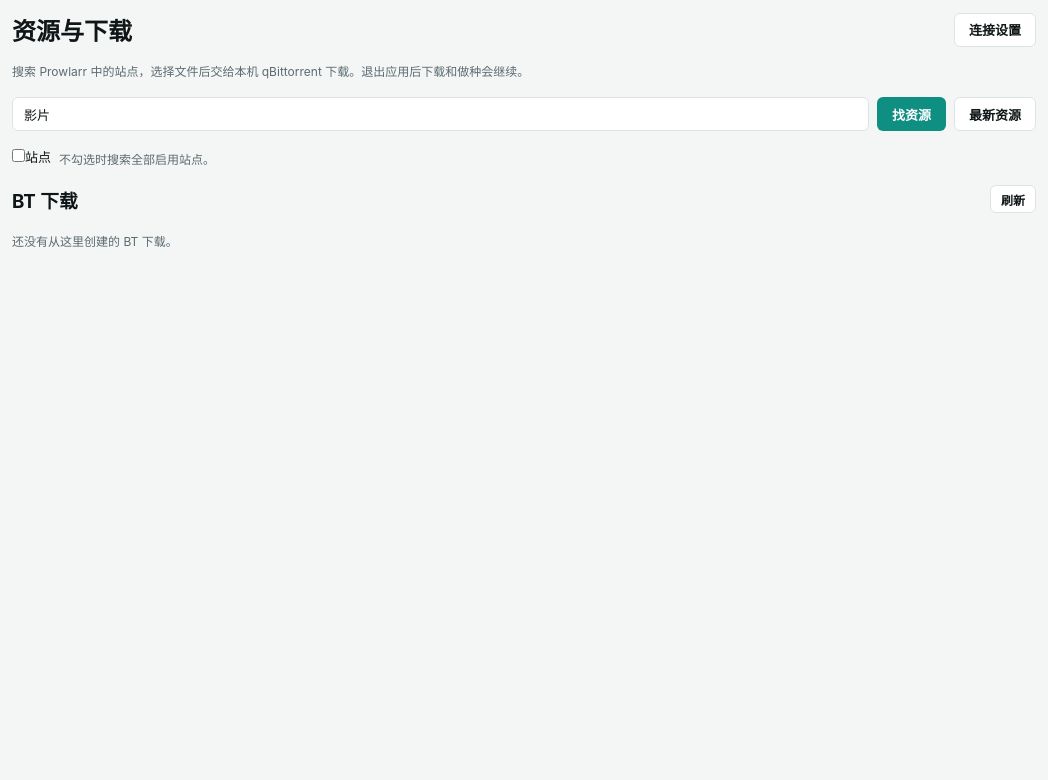
Test: keeps preview errors and missing metadata visible on the detail page
Submit the form, box [12,97,1036,131]
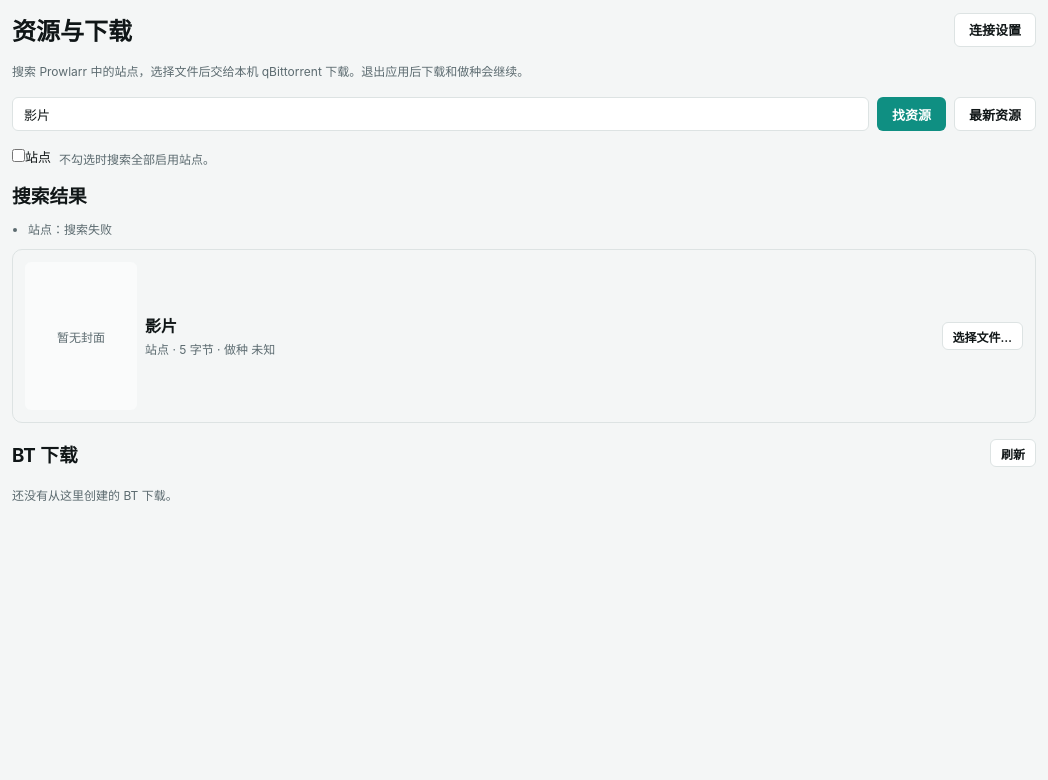
Click the button with test id "bt-resource-title-opaque": (161,325) [145,313,177,337]
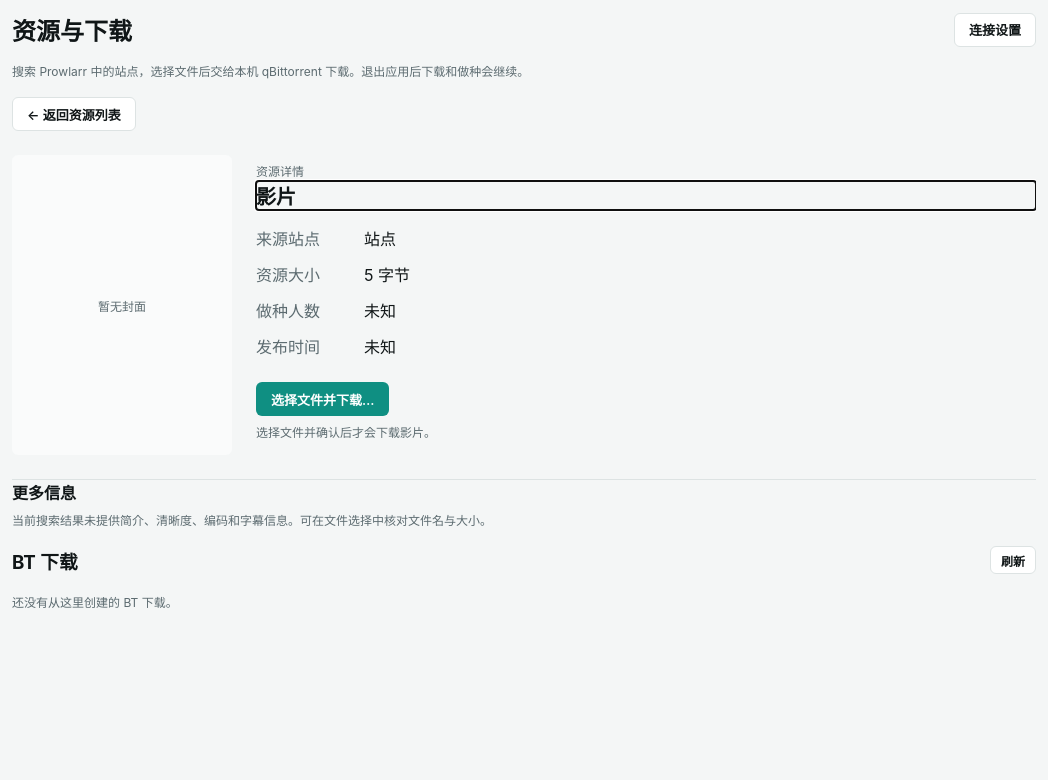
expect the element with test id "bt-resource-detail" shows "暂无封面": met, box [98,298,146,314]
expect the text with test id "bt-resource-seeders" reads "未知": met, box [364,301,396,321]
expect the text with test id "bt-resource-published" reads "未知": met, box [364,337,396,357]
Click the button with test id "bt-resource-download": (323,399) [256,382,389,416]
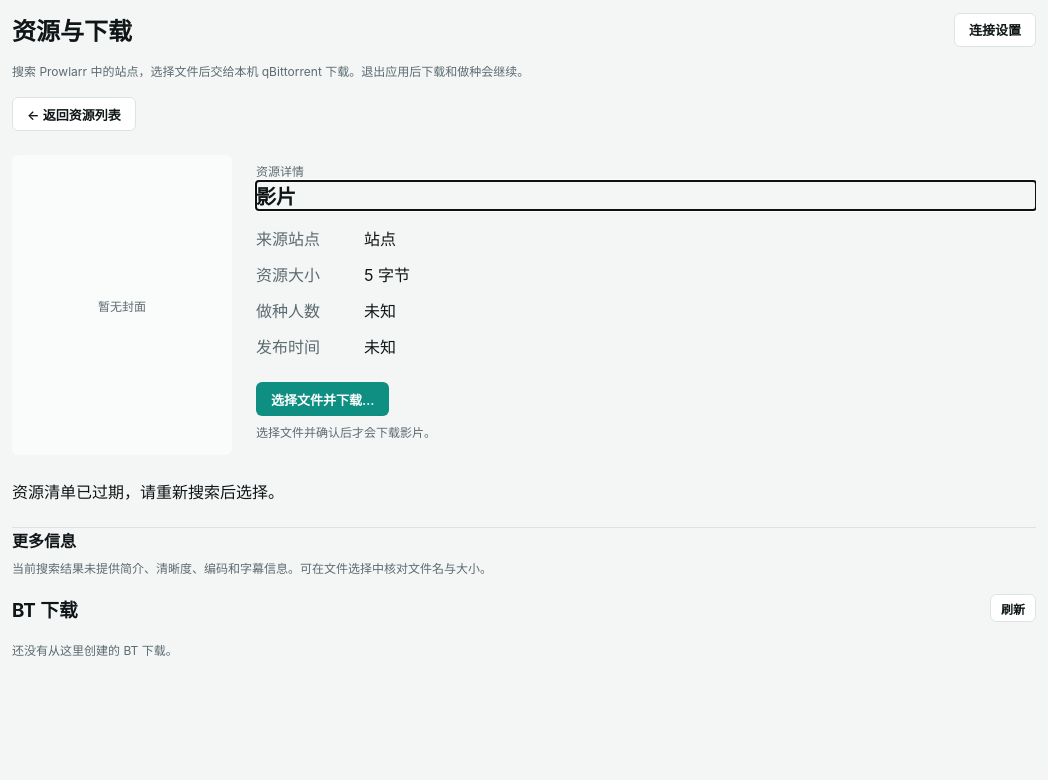
expect the element with test id "bt-resource-detail" shows "已过期": met
